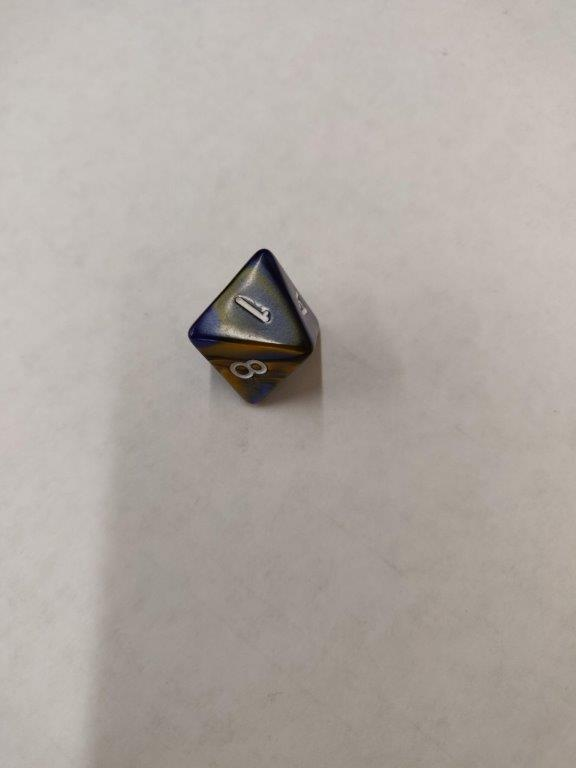d8-1: (189, 248, 323, 410)
